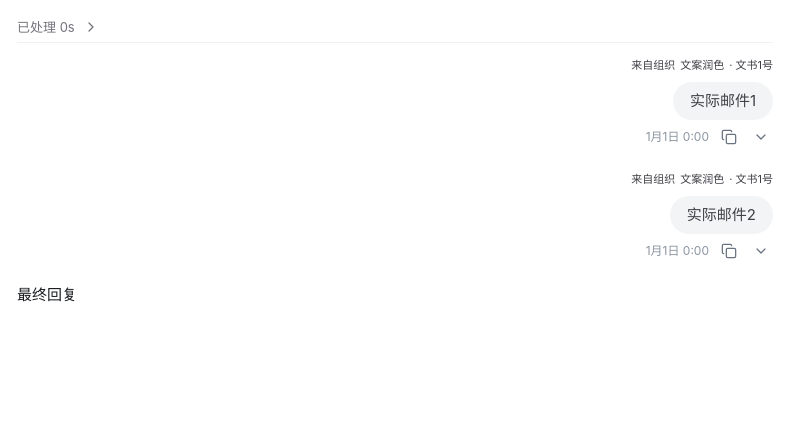
organization mail inside a run › restores the full sequence when the process header is expanded and hides narration again when collapsed
Click the button with class "agent-run__elapsed-button": click(46, 27) [17,17,773,42]
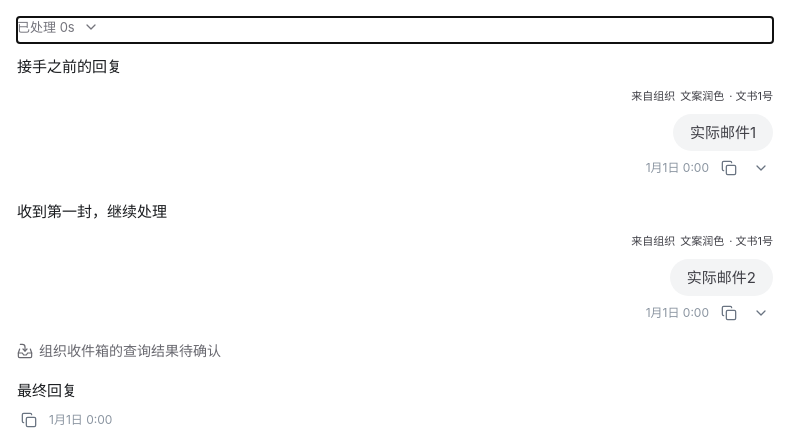
Expected: the button with class "agent-run__elapsed-button" is expanded
Expected: the element with class "agent-activity--workflow-query" is shown, [17,342,221,359]
Click the button with class "agent-run__elapsed-button": click(46, 27) [17,17,773,42]
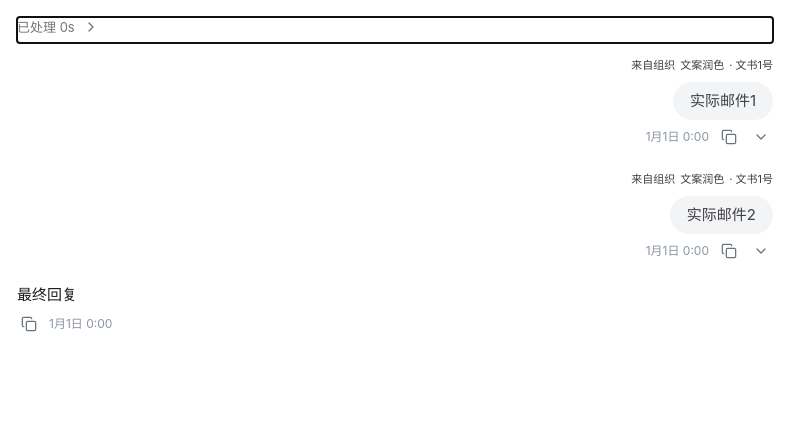
Expected: the number of elements with class "workflow-delivery" is 2, [631,58,773,148]; [631,172,773,262]
Expected: the button with class "agent-run__elapsed-button" is collapsed, [17,17,773,42]
Expected: the element with class "agent-activity--workflow-query" is gone
